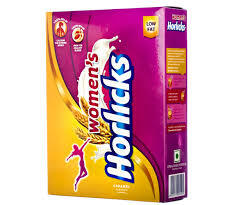VEG: (172, 148, 181, 163)
